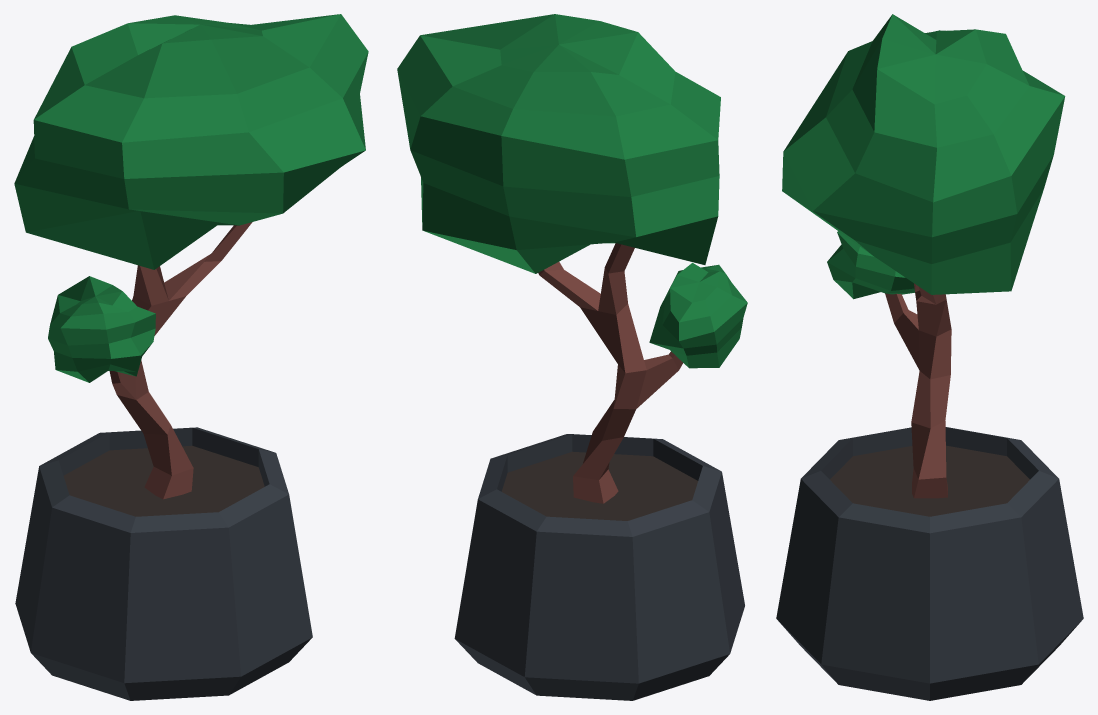
The model's file is Plant05.fbx.
3 renders of one model, left to right at view 1: azimuth 30°, elevation 25°; view 2: azimuth 150°, elevation 25°; view 3: azimuth 270°, elevation 25°, orthographic. The views are drawn at different scales.
Visible parts, largest first — view 1: Bonsai, Pot; view 2: Bonsai, Pot; view 3: Bonsai, Pot.
Boxes of the visible parts, <box> form: Bonsai: <box>14,14,368,499</box>; Pot: <box>15,427,312,700</box>; Bonsai: <box>397,14,747,503</box>; Pot: <box>454,434,744,700</box>; Bonsai: <box>782,14,1065,498</box>; Pot: <box>776,427,1083,700</box>.
Bounding box in the file's own units: 59.16 × 103 × 46.2.
